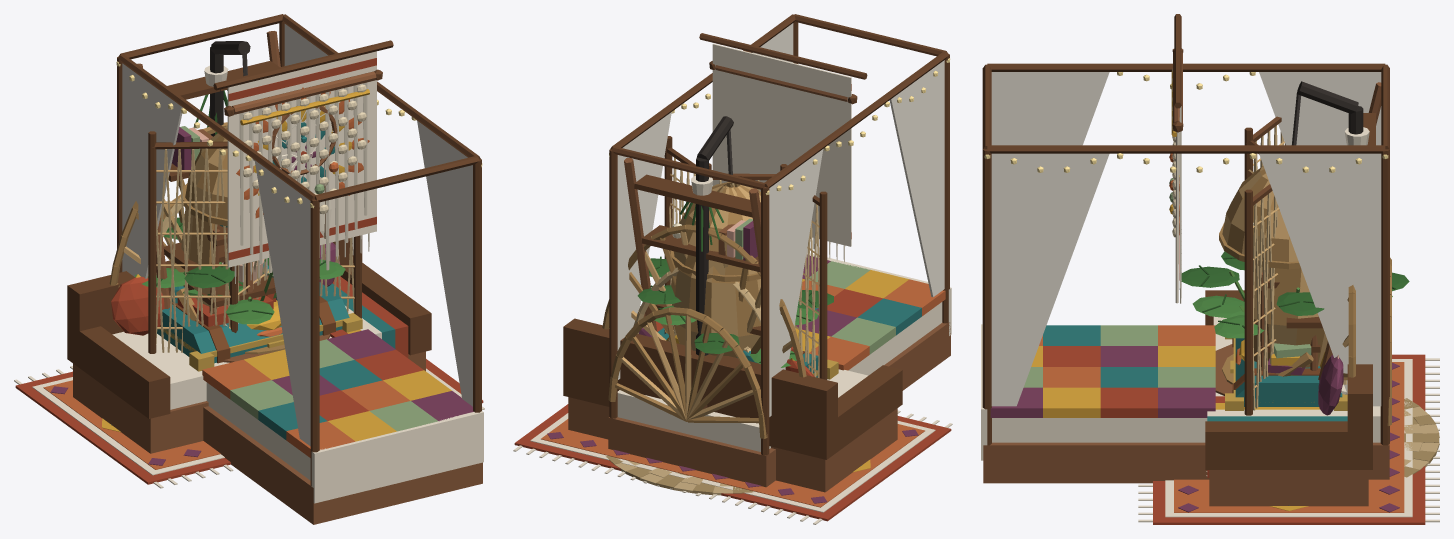
File: furniture_boho.glb
The picture shows the model from 3 angles, left to right: view 1: azimuth 30°, elevation 25°; view 2: azimuth 150°, elevation 25°; view 3: azimuth 270°, elevation 25°; orthographic projection. The views are drawn at different scales.
Visible parts, largest first — view 1: boho_canopy_bed_main, boho_sofa_main, boho_tapestry_main, boho_macrame_main, boho_room_divider_main, boho_kilim_rug_main, boho_trunk_main, boho_ladder_shelf_main, boho_monstera_main, boho_floor_lamp_main, boho_peacock_chair_main, boho_egg_chair_swing (+3 smaller); view 2: boho_canopy_bed_main, boho_sofa_main, boho_tapestry_main, boho_kilim_rug_main, boho_ladder_shelf_main, boho_room_divider_main, boho_egg_chair_swing, boho_peacock_chair_main, boho_monstera_main, boho_floor_lamp_main, boho_egg_chair_main, boho_jute_rug_main (+1 smaller); view 3: boho_canopy_bed_main, boho_sofa_main, boho_kilim_rug_main, boho_room_divider_main, boho_trunk_main, boho_monstera_main, boho_floor_lamp_main, boho_egg_chair_swing, boho_jute_rug_main, boho_macrame_main, boho_ladder_shelf_main, boho_peacock_chair_main (+4 smaller).
Boxes of the visible parts, left/top/right/bottom form: boho_canopy_bed_main: left=116, top=14, right=483, bottom=524; boho_sofa_main: left=67, top=235, right=431, bottom=453; boho_tapestry_main: left=213, top=40, right=393, bottom=283; boho_macrame_main: left=224, top=69, right=382, bottom=272; boho_room_divider_main: left=148, top=131, right=361, bottom=353; boho_kilim_rug_main: left=14, top=359, right=484, bottom=488; boho_trunk_main: left=157, top=269, right=362, bottom=371; boho_ladder_shelf_main: left=137, top=31, right=280, bottom=308; boho_monstera_main: left=135, top=217, right=345, bottom=324; boho_floor_lamp_main: left=183, top=125, right=253, bottom=299; boho_peacock_chair_main: left=109, top=122, right=284, bottom=354; boho_egg_chair_swing: left=181, top=52, right=281, bottom=330; boho_canopy_bed_main: left=608, top=14, right=951, bottom=487; boho_sofa_main: left=563, top=306, right=902, bottom=492; boho_tapestry_main: left=699, top=33, right=867, bottom=262; boho_kilim_rug_main: left=513, top=404, right=952, bottom=524; boho_ladder_shelf_main: left=624, top=158, right=760, bottom=335; boho_room_divider_main: left=664, top=136, right=827, bottom=379; boho_egg_chair_swing: left=671, top=129, right=760, bottom=357; boho_peacock_chair_main: left=602, top=224, right=806, bottom=377; boho_monstera_main: left=637, top=256, right=833, bottom=367; boho_floor_lamp_main: left=670, top=182, right=760, bottom=281; boho_egg_chair_main: left=696, top=116, right=733, bottom=355; boho_jute_rug_main: left=606, top=456, right=752, bottom=495; boho_canopy_bed_main: left=981, top=63, right=1391, bottom=483; boho_sofa_main: left=1205, top=290, right=1372, bottom=506; boho_kilim_rug_main: left=1138, top=354, right=1439, bottom=524; boho_room_divider_main: left=1244, top=116, right=1285, bottom=415; boho_trunk_main: left=1225, top=337, right=1347, bottom=410; boho_monstera_main: left=1181, top=251, right=1409, bottom=338; boho_floor_lamp_main: left=1219, top=166, right=1300, bottom=269; boho_egg_chair_swing: left=1239, top=91, right=1327, bottom=367; boho_jute_rug_main: left=1404, top=398, right=1439, bottom=477; boho_macrame_main: left=1169, top=48, right=1183, bottom=303; boho_ladder_shelf_main: left=1286, top=82, right=1381, bottom=380; boho_peacock_chair_main: left=1222, top=285, right=1355, bottom=384.
Size of the model in its own units: 1.9 by 2.02 by 2.19.
